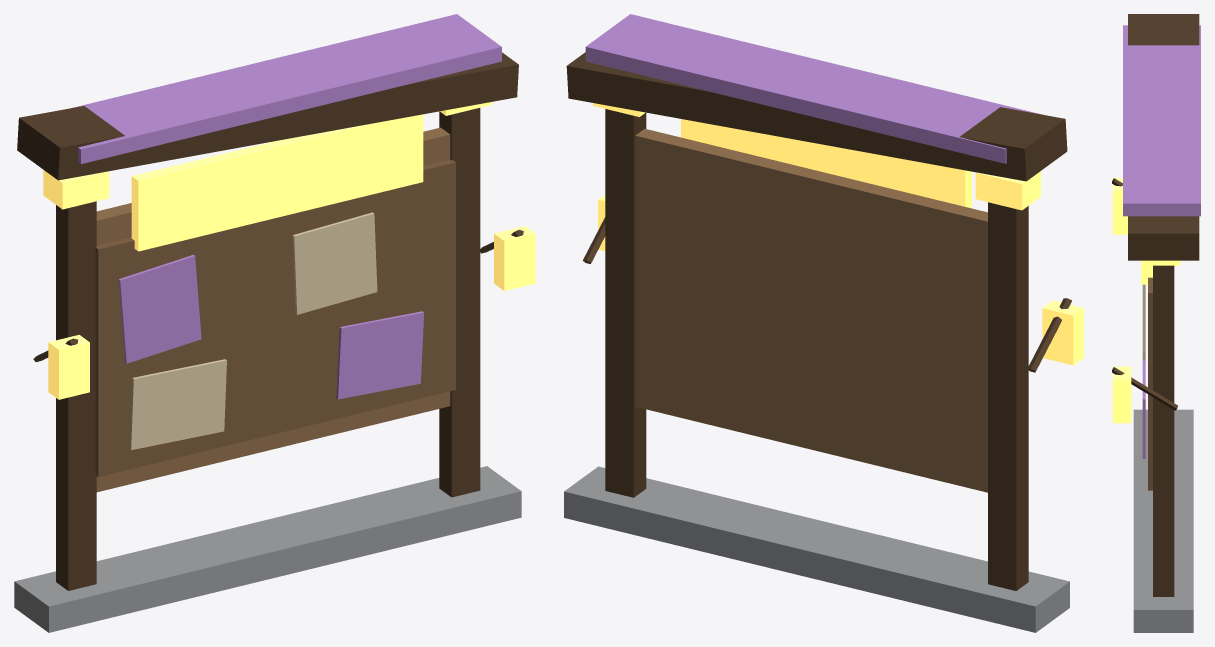
File: jobs_board_violet.lod1.glb
3 renders of one model, left to right at view 1: azimuth 30°, elevation 25°; view 2: azimuth 150°, elevation 25°; view 3: azimuth 270°, elevation 25°, orthographic. The views are drawn at different scales.
Size of the model in its own units: 6.62 by 6.45 by 1.23.
